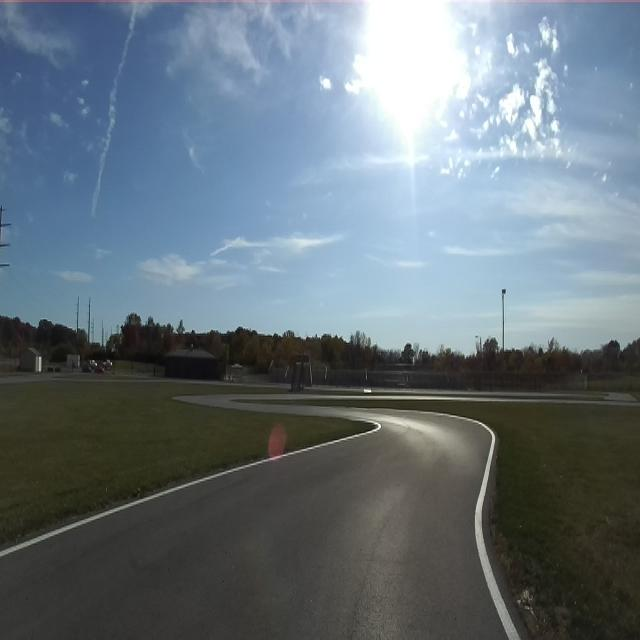white-line: (0, 419, 381, 558), (417, 410, 520, 639)
